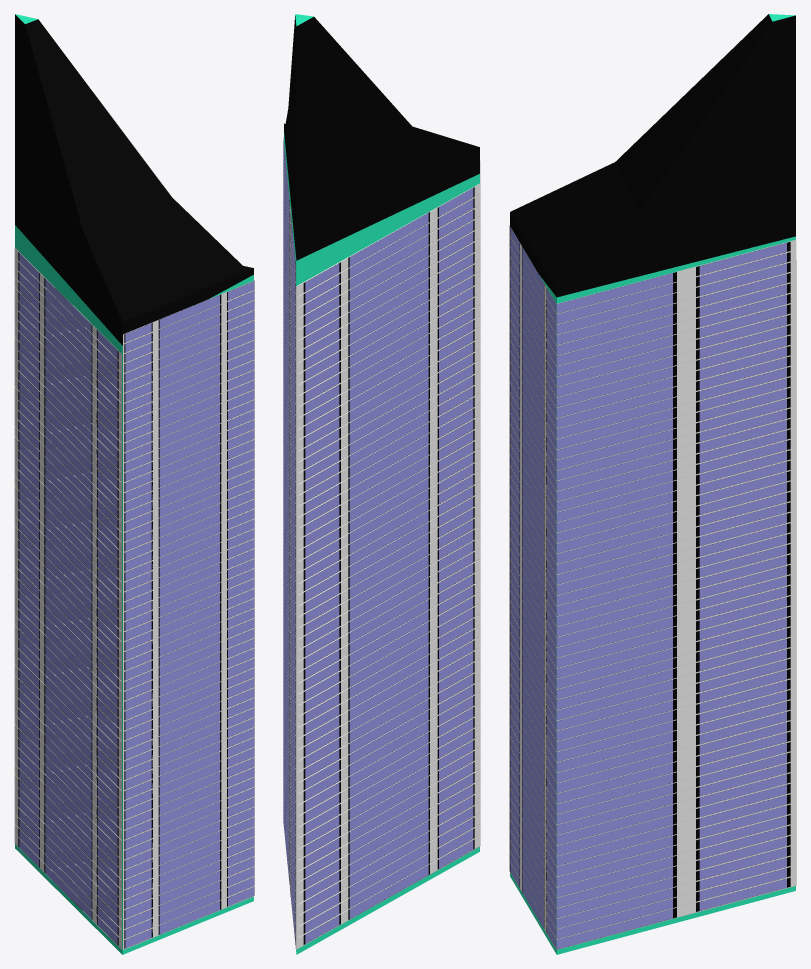
The model's file is ConstellationTower.fbx.
The picture shows the model from 3 angles, left to right: view 1: azimuth 30°, elevation 25°; view 2: azimuth 150°, elevation 25°; view 3: azimuth 270°, elevation 25°; orthographic projection. The views are drawn at different scales.
Visible parts, largest first — view 1: Window.002, Window.001, ConstellationTower, Window; view 2: Window.001, ConstellationTower, Window; view 3: Window, ConstellationTower, Window.002, Window.001.
Boxes of the visible parts, x1,y1,x2,y2 form: Window.002: [123, 281, 254, 949]; Window.001: [14, 247, 121, 949]; ConstellationTower: [15, 14, 253, 954]; Window: [254, 280, 254, 895]; Window.001: [296, 183, 480, 949]; ConstellationTower: [284, 14, 479, 954]; Window: [283, 137, 295, 948]; Window: [556, 240, 796, 949]; ConstellationTower: [510, 14, 795, 954]; Window.002: [509, 225, 556, 949]; Window.001: [796, 260, 796, 885].
Bounding box in the file's own units: 3328 × 17135 × 5096.
